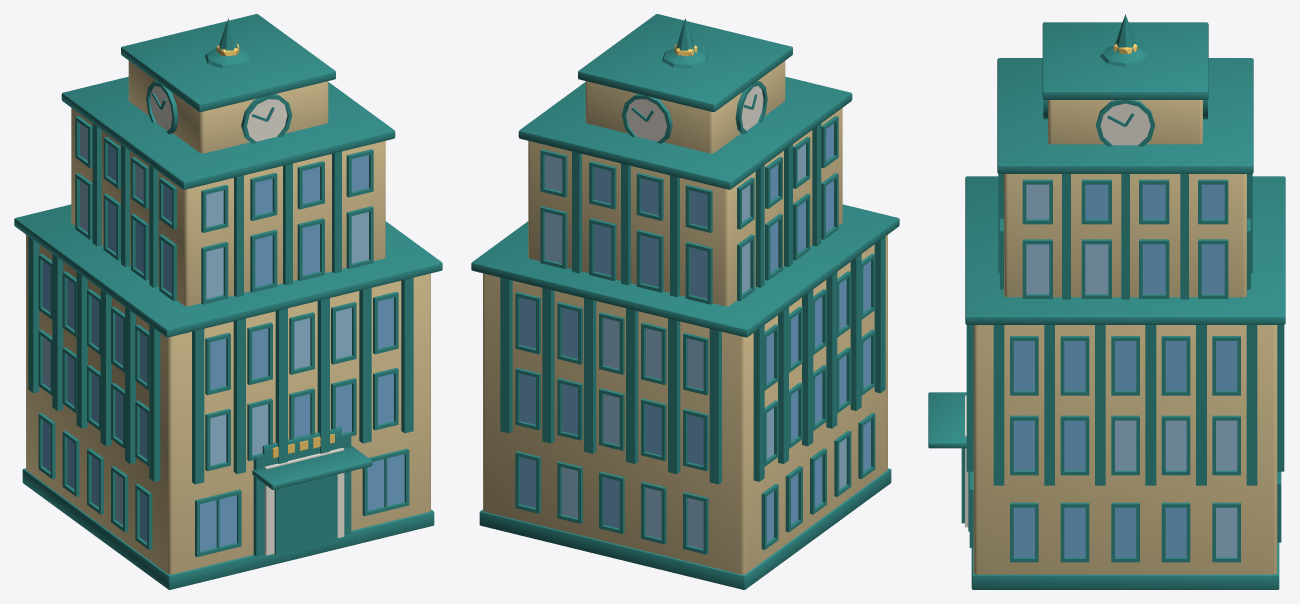
File: building_deco.glb
3 renders of one model, left to right at view 1: azimuth 30°, elevation 25°; view 2: azimuth 150°, elevation 25°; view 3: azimuth 270°, elevation 25°, orthographic. The views are drawn at different scales.
Visible parts, largest first — view 1: building; view 2: building; view 3: building.
Boxes of the visible parts, x1,y1,x2,y2 form: building: [14, 14, 442, 589]; building: [471, 14, 899, 589]; building: [928, 14, 1285, 589].
Bounding box in the file's own units: 9.9 × 16.64 × 10.6.
